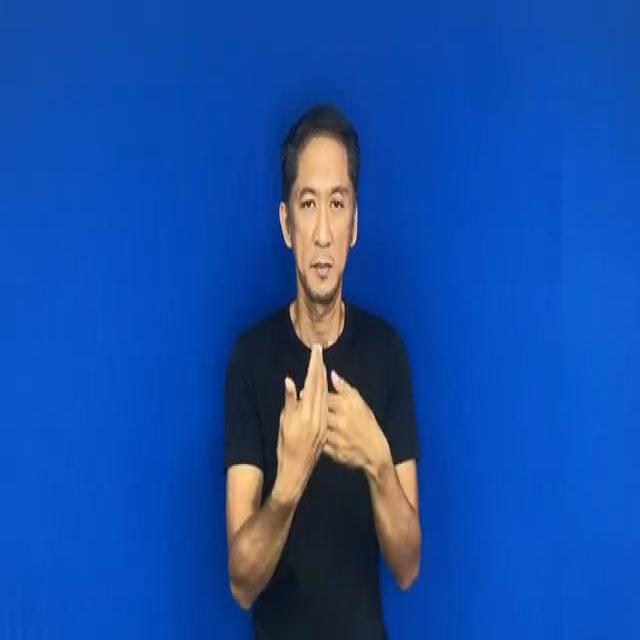bread: (271, 341, 393, 495)
